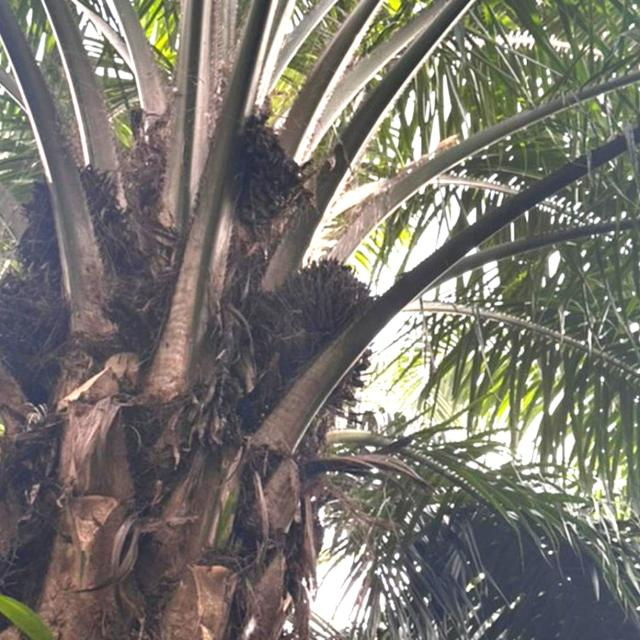almost: (272, 251, 376, 411)
